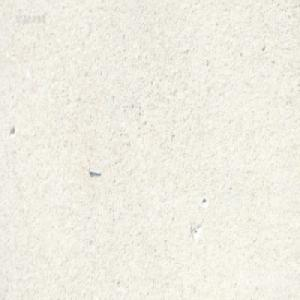Nail: (87, 165, 100, 175)
